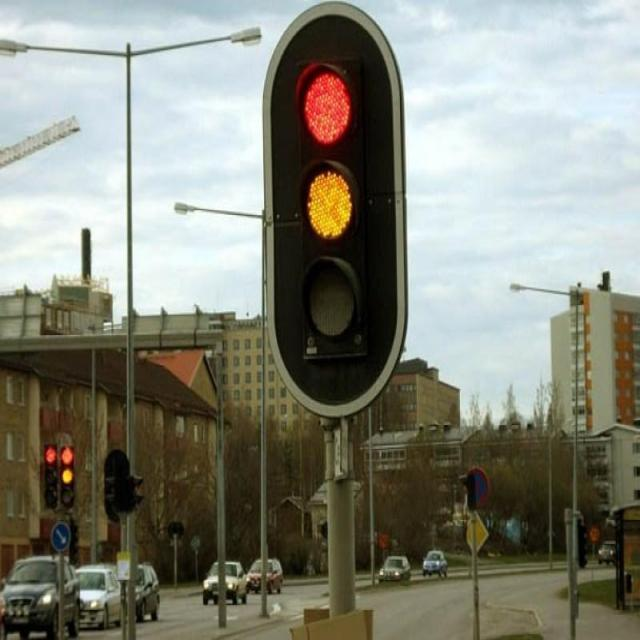yellow_light: (269, 4, 398, 402), (63, 445, 74, 506)
